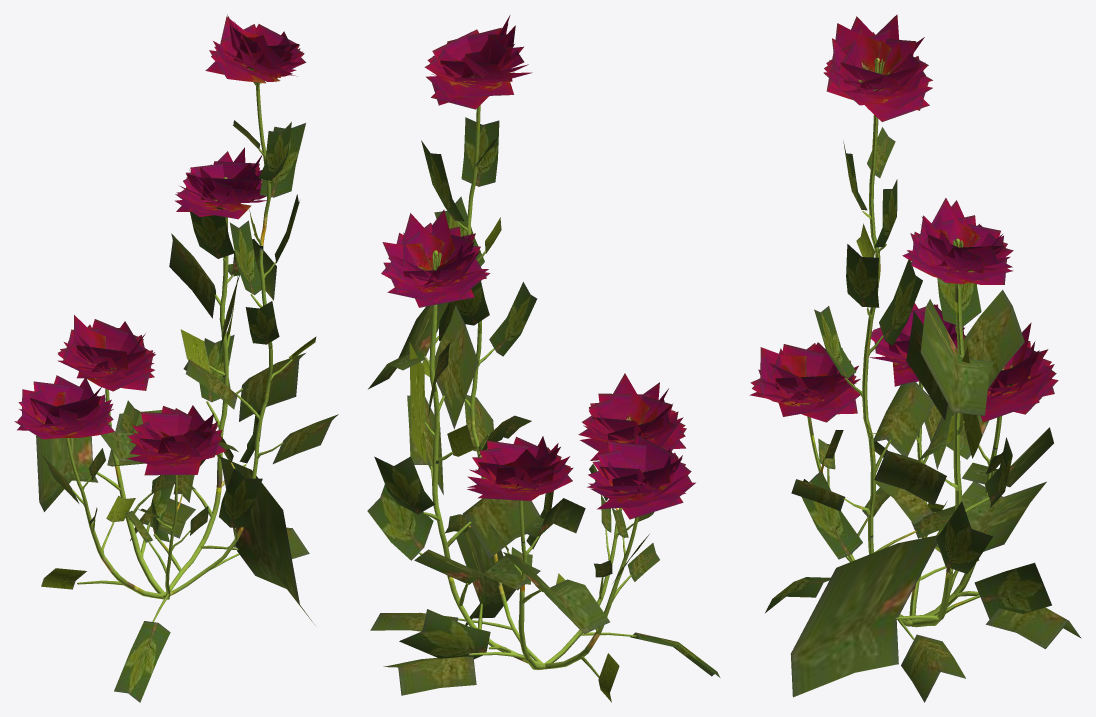
The model's file is red_flower1.FBX.
The picture shows the model from 3 angles, left to right: view 1: azimuth 30°, elevation 25°; view 2: azimuth 150°, elevation 25°; view 3: azimuth 270°, elevation 25°; orthographic projection. The views are drawn at different scales.
Visible parts, largest first — view 1: Yellow_F001; view 2: Yellow_F001; view 3: Yellow_F001.
Boxes of the visible parts, left/top/right/bottom form: Yellow_F001: left=14, top=14, right=338, bottom=702; Yellow_F001: left=367, top=15, right=720, bottom=702; Yellow_F001: left=749, top=14, right=1081, bottom=702.
Bounding box in the file's own units: 0.3755 × 0.7545 × 0.3346.
